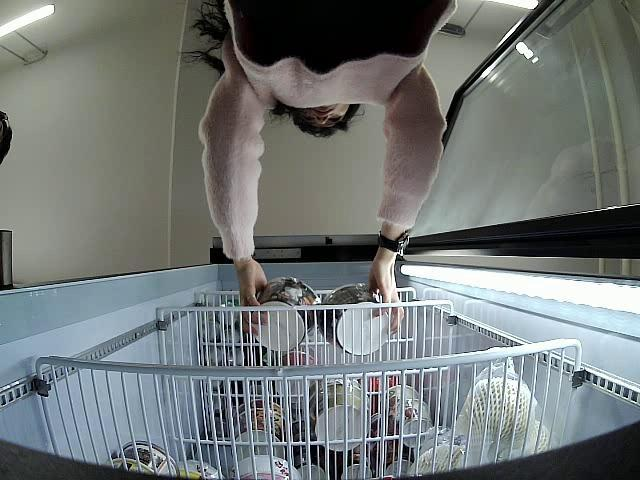07_buldak_L: (249, 276, 318, 350), (320, 282, 390, 354)
